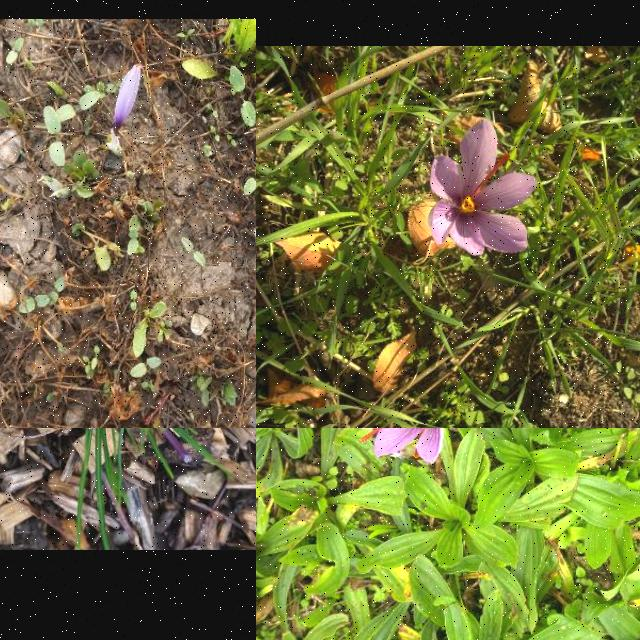flower: (427, 118, 539, 255), (333, 428, 451, 465), (115, 63, 142, 134)
